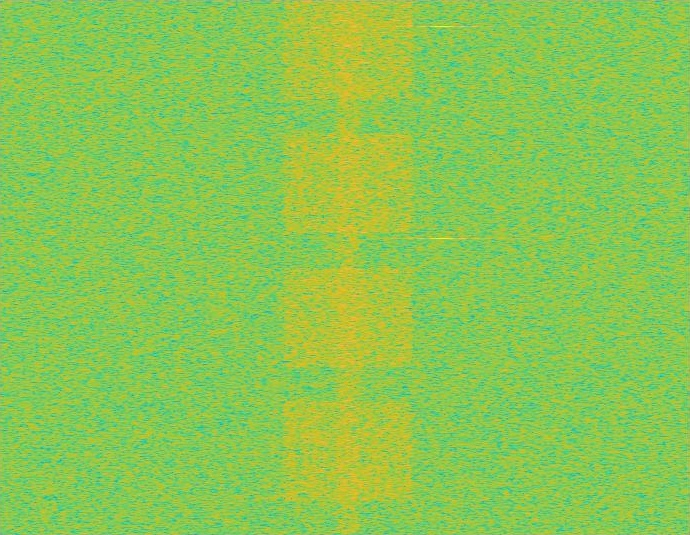5G: (279, 0, 417, 534)
DSSS: (333, 0, 364, 534)
Radar: (435, 0, 449, 534)
